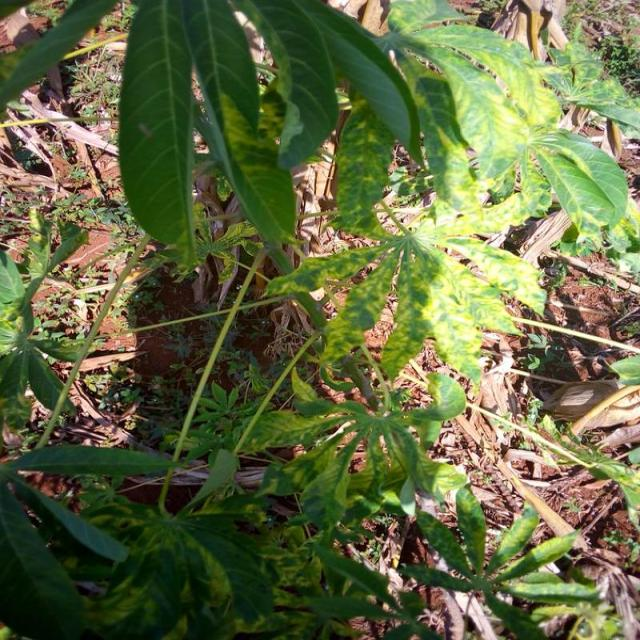cassava leaf: (118, 0, 198, 271)
